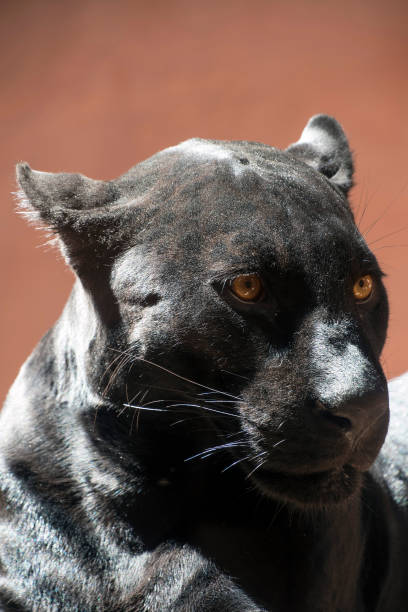panther: (5, 108, 398, 568)
